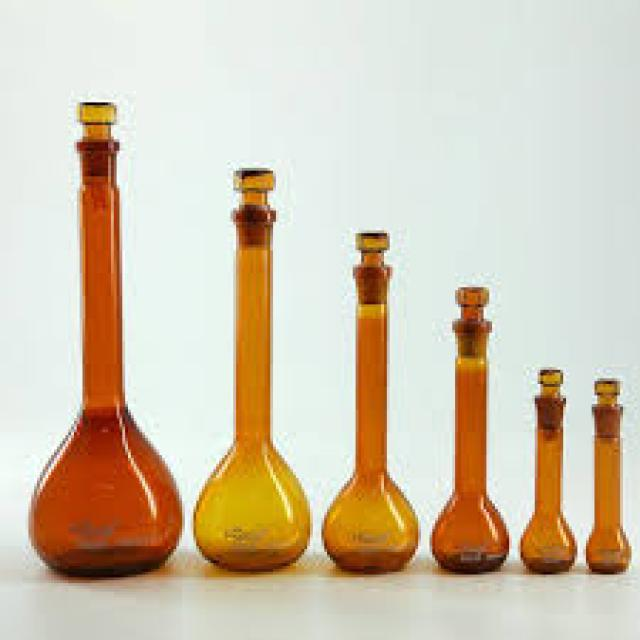glass: (28, 139, 179, 572), (193, 202, 307, 569), (321, 265, 418, 572), (430, 319, 506, 572), (521, 387, 575, 572), (586, 401, 626, 572)
